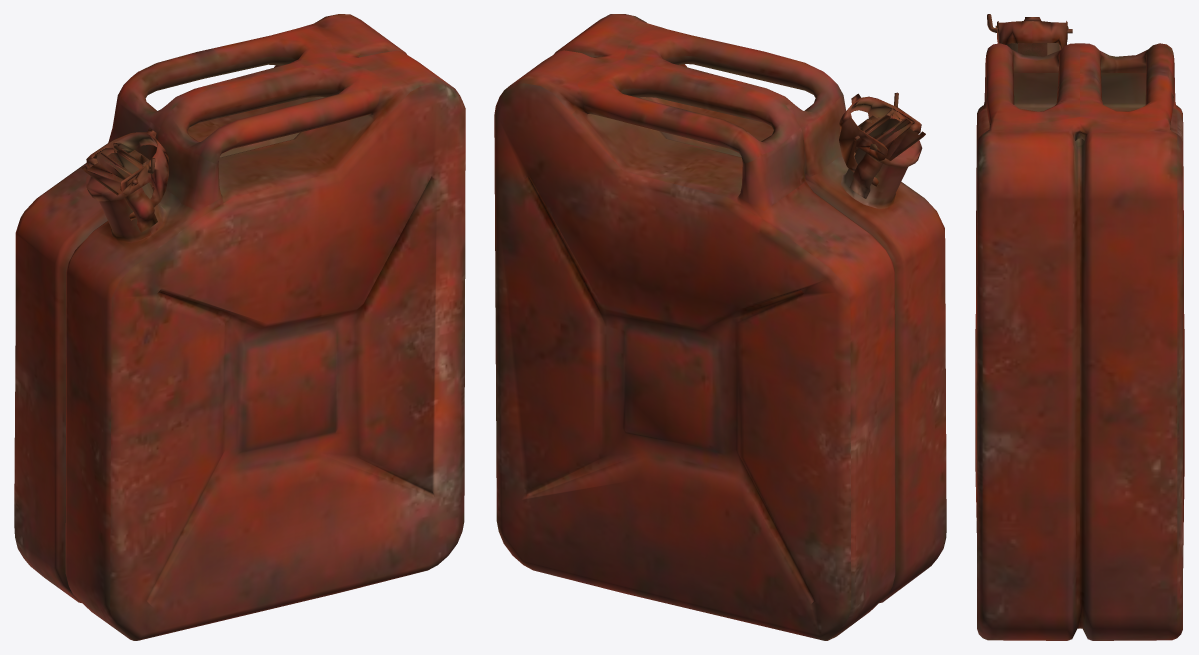
The model's file is jerrycan.glb.
The picture shows the model from 3 angles, left to right: view 1: azimuth 30°, elevation 25°; view 2: azimuth 150°, elevation 25°; view 3: azimuth 270°, elevation 25°; orthographic projection. The views are drawn at different scales.
Visible parts, largest first — view 1: metal_jerrycan; view 2: metal_jerrycan; view 3: metal_jerrycan.
Part boxes in pixels (left/top/right/bottom): metal_jerrycan: left=14, top=14, right=465, bottom=640; metal_jerrycan: left=494, top=14, right=946, bottom=640; metal_jerrycan: left=975, top=14, right=1184, bottom=640.
Size of the model in its own units: 0.3496 by 0.4549 by 0.1717.
1 material, 1 textured.
